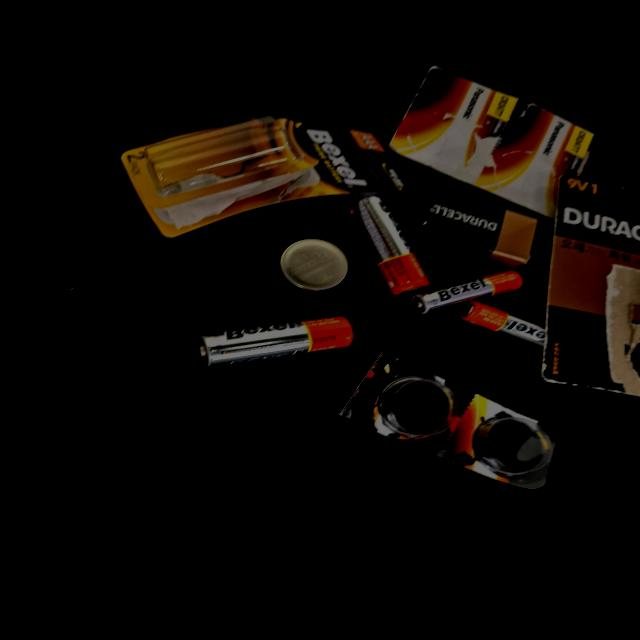9V: (282, 303, 392, 403)
AA: (246, 261, 381, 321), (151, 148, 218, 264)
AAA: (221, 308, 279, 392), (176, 344, 240, 408)
COIN: (251, 208, 322, 260)
